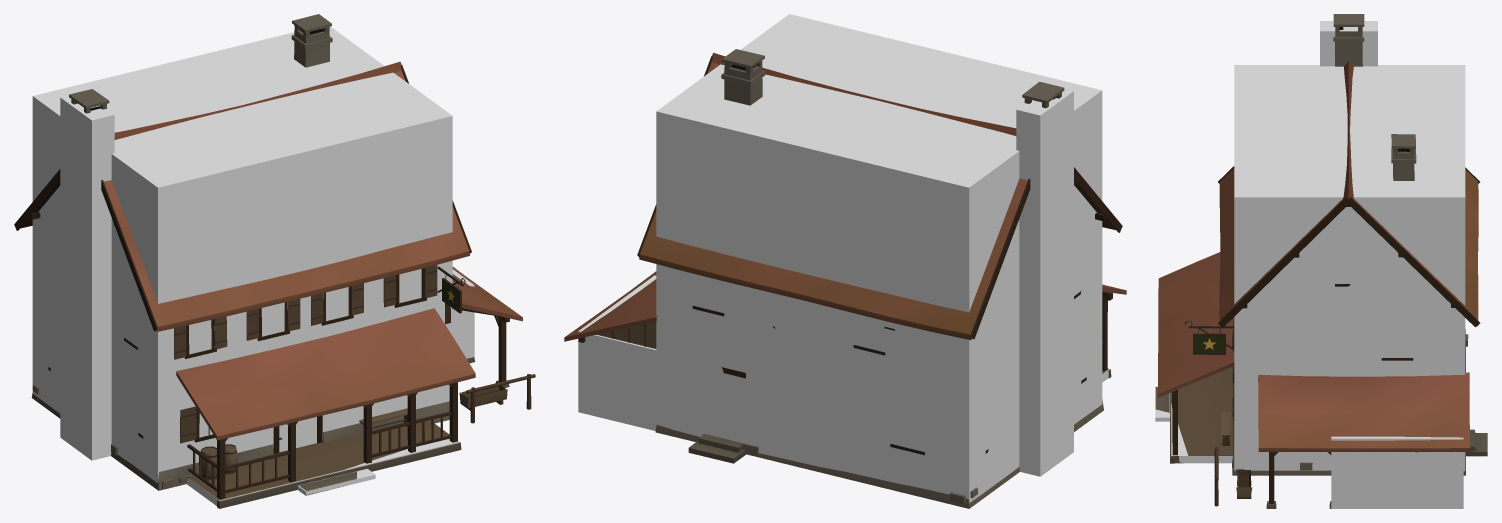
Rendered from tavern.glb.
3 views of the same model, side by side, from view 1: azimuth 30°, elevation 25°; view 2: azimuth 150°, elevation 25°; view 3: azimuth 270°, elevation 25° (orthographic). The views are drawn at different scales.
Visible parts, largest first — view 1: COL_body, tavern, COL_chimney, COL_stable, WALK_porch; view 2: COL_body, tavern, COL_chimney, COL_stable; view 3: COL_body, tavern, COL_stable, COL_chimney, WALK_porch.
Boxes of the visible parts, x1,y1,x2,y2 form: COL_body: [32, 26, 452, 483]; tavern: [14, 14, 535, 508]; COL_chimney: [60, 95, 114, 460]; COL_stable: [452, 269, 474, 358]; WALK_porch: [186, 439, 459, 505]; COL_body: [656, 14, 1102, 503]; tavern: [564, 49, 1126, 508]; COL_chimney: [1016, 89, 1073, 476]; COL_stable: [578, 275, 656, 430]; COL_body: [1234, 65, 1465, 471]; tavern: [1155, 14, 1487, 508]; COL_stable: [1331, 436, 1463, 508]; COL_chimney: [1320, 21, 1377, 66]; WALK_porch: [1171, 404, 1232, 463].
Bounding box in the file's own units: 13.11 × 10.96 × 10.3.
